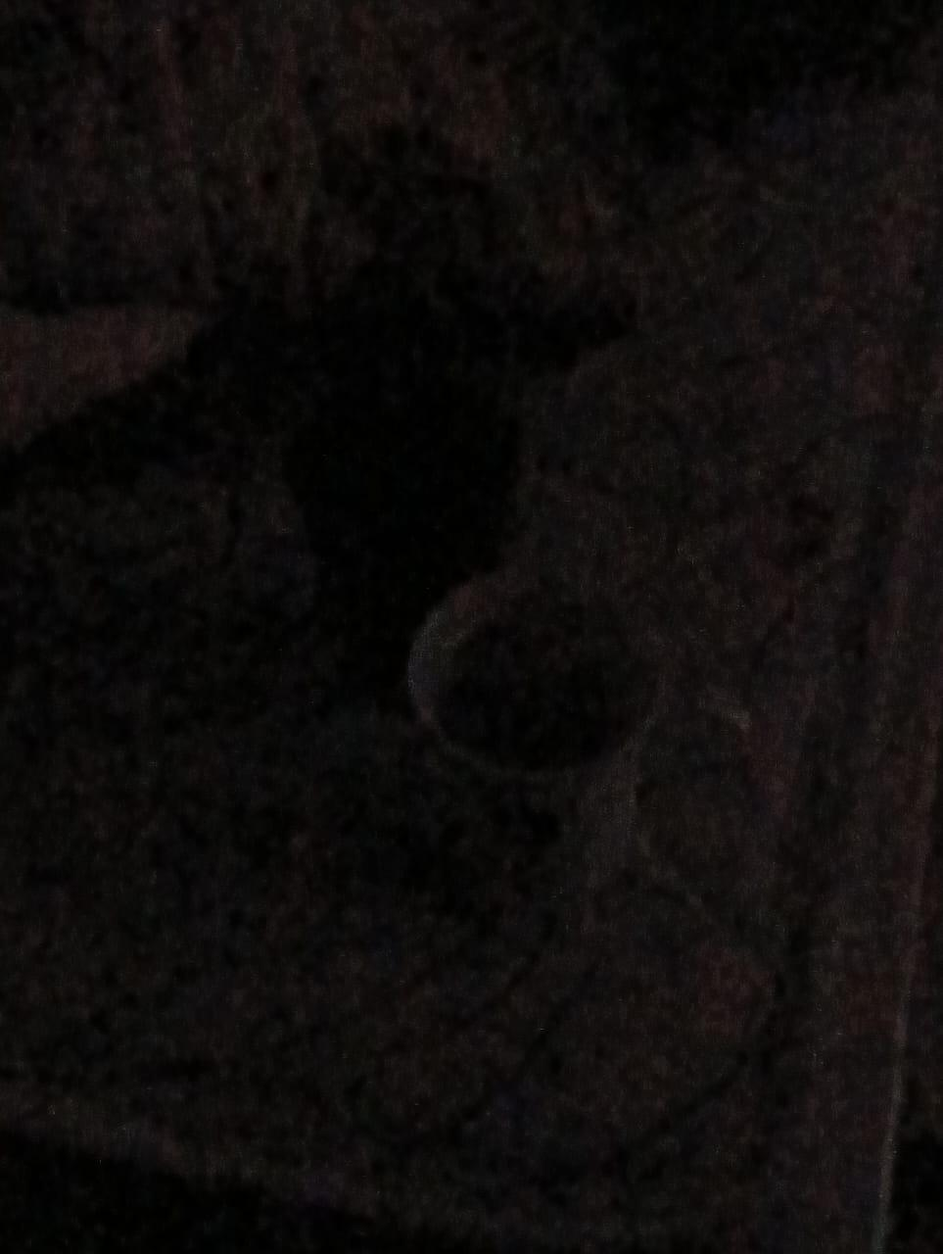cup: (408, 569, 714, 914), (407, 570, 660, 784)
